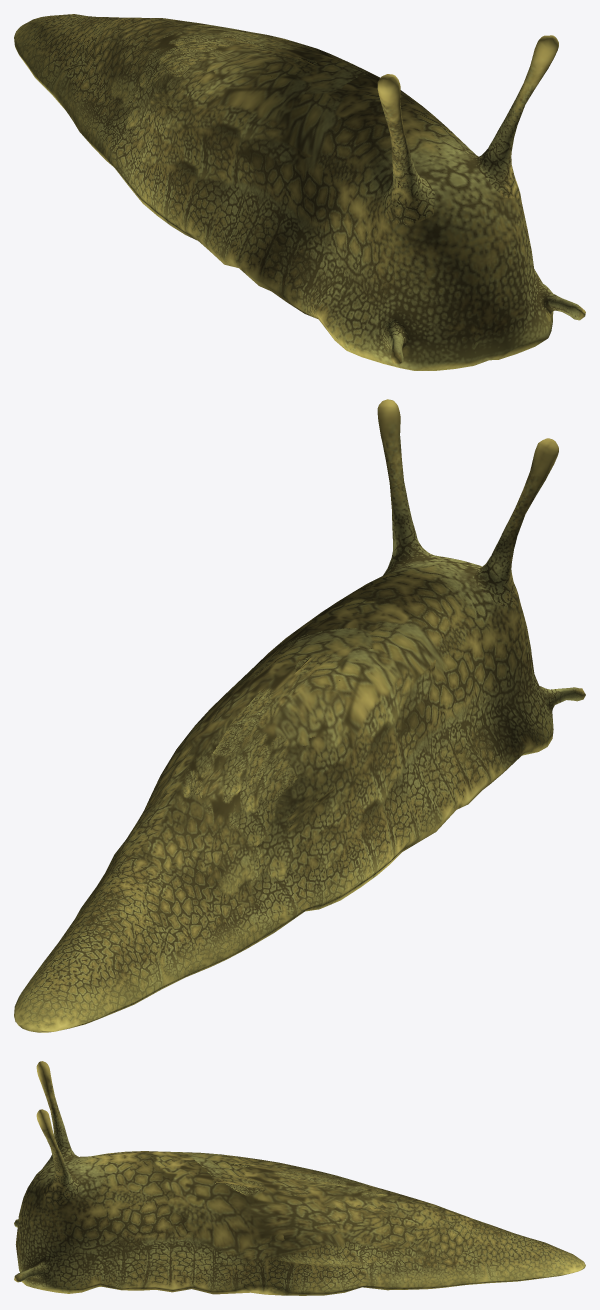
File: snail.obj
3 views of the same model, one above another, from view 1: azimuth 30°, elevation 25°; view 2: azimuth 150°, elevation 25°; view 3: azimuth 270°, elevation 25° (orthographic). The views are drawn at different scales.
Parts seen in each view (by area): view 1: obj2; view 2: obj2; view 3: obj2.
Part boxes in pixels (left/top/right/bottom): obj2: left=14, top=14, right=585, bottom=370; obj2: left=14, top=399, right=585, bottom=1032; obj2: left=14, top=1061, right=585, bottom=1295.
Bounding box in the file's own units: 1.27 × 1.68 × 4.67.
Materials: 1 (1 with a texture image).
